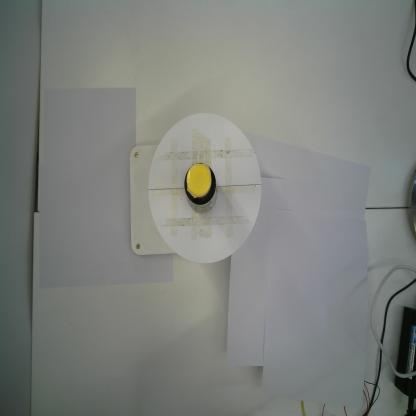Seasoner: (184, 162, 218, 215)
